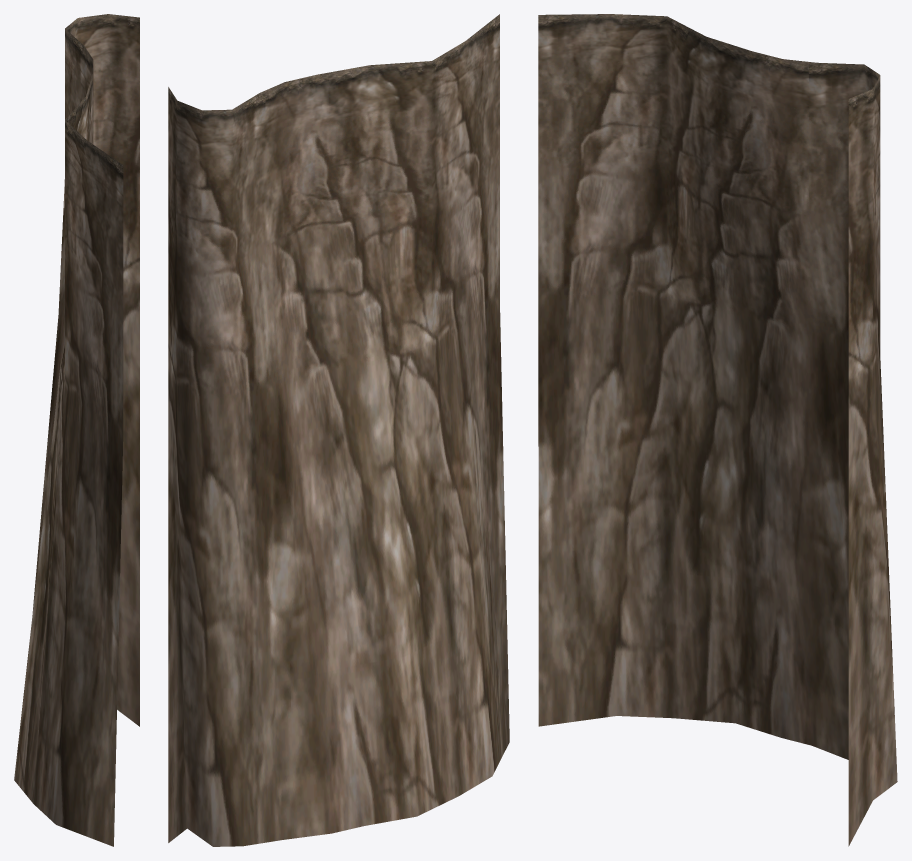
File: OVERHILL_A_01_LINE61.fbx
The picture shows the model from 3 angles, left to right: view 1: azimuth 30°, elevation 25°; view 2: azimuth 150°, elevation 25°; view 3: azimuth 270°, elevation 25°; orthographic projection. The views are drawn at different scales.
Parts seen in each view (by area): view 1: OVERHILL_A_01_LINE61; view 2: OVERHILL_A_01_LINE61; view 3: OVERHILL_A_01_LINE61.
Boxes of the visible parts, x1,y1,x2,y2 form: OVERHILL_A_01_LINE61: [14, 14, 139, 846]; OVERHILL_A_01_LINE61: [168, 14, 509, 846]; OVERHILL_A_01_LINE61: [538, 14, 897, 846].
Bounding box in the file's own units: 48501 × 169645 × 73824.
Materials: 2 (2 with a texture image).
